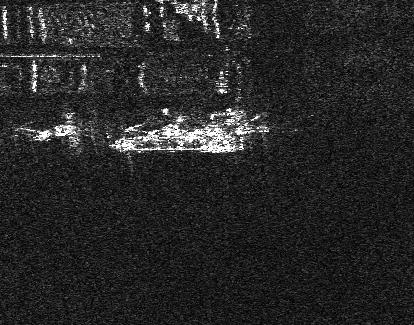ship: (109, 125, 243, 155)
